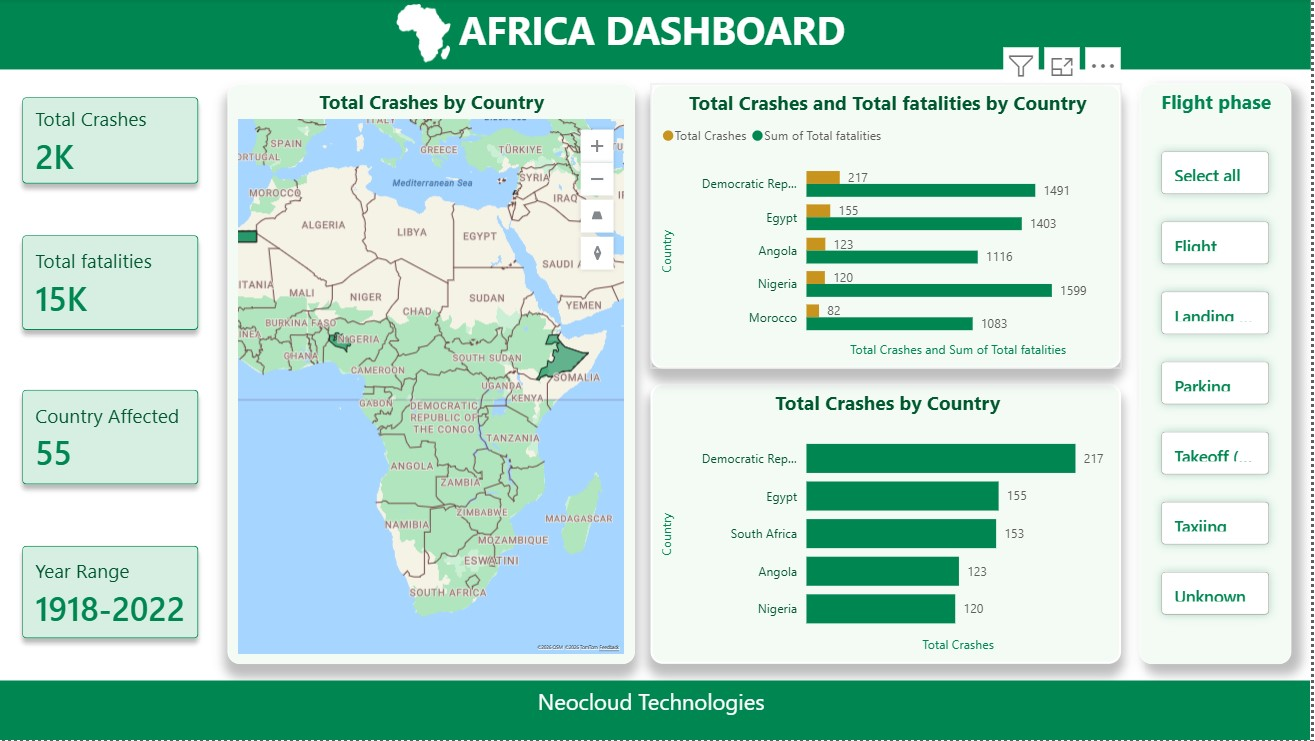

What the dashboard file says about the page in this screenshot:
{"tool":"powerbi","page":{"name":"Africa Dashboard","canvas":[1280,720],"ordinal":3},"visuals":[{"type":"cardVisual","fields":{"Data":["Worksheet.Total Crashes","select"]},"box":[0,66.4,229.9,142.5],"z":0},{"type":"textbox","box":[0,299,229,150],"z":1000},{"type":"textbox","box":[0,0,1280.8,69],"z":2000},{"type":"cardVisual","fields":{"Data":["Sum(Worksheet.Total fatalities)"]},"box":[0,200.8,229.9,150.6],"z":3000},{"type":"cardVisual","fields":{"Data":["Count(Worksheet.Country)"]},"box":[0,351.4,229.9,150.6],"z":4000},{"type":"cardVisual","fields":{"Data":["Worksheet.Year Range"]},"box":[0,502,229.9,149],"z":5000},{"type":"clusteredBarChart","fields":{"Category":["Worksheet.Country"],"Y":["Worksheet.Total Crashes"]},"box":[639.6,374,456.6,272],"z":6000},{"type":"clusteredBarChart","title":"Total Crashes and Total fatalities by Country","fields":{"Category":["Worksheet.Country"],"Y":["Worksheet.Total Crashes","Sum(Worksheet.Total fatalities)"]},"box":[639.6,82.6,456.6,276.9],"z":7000},{"type":"azureMap","fields":{"Category":["Worksheet.Country"]},"box":[228.3,82.6,395.1,563.5],"z":8000},{"type":"textbox","box":[0,662.3,1279.2,58.3],"z":9000},{"type":"advancedSlicerVisual","fields":{"Values":["Worksheet.Flight phase"]},"box":[1114,82.6,147.3,563.5],"z":10000},{"type":"image","box":[385.4,6.5,66.4,56.7],"z":11000}]}

Visuals, with their boxes in screenshot pixels (x1, y1, x2, y2), scaled from the page's 1280x720 canvas onto the 1315x741 screenshot:
cardVisual - Worksheet.Total Crashes x select: x1=0, y1=68, x2=236, y2=215
textbox: x1=0, y1=308, x2=235, y2=462
textbox: x1=0, y1=0, x2=1314, y2=71
cardVisual - Sum(Worksheet.Total fatalities): x1=0, y1=207, x2=236, y2=362
cardVisual - Count(Worksheet.Country): x1=0, y1=362, x2=236, y2=517
cardVisual - Worksheet.Year Range: x1=0, y1=517, x2=236, y2=670
clusteredBarChart - Worksheet.Country x Worksheet.Total Crashes: x1=657, y1=385, x2=1126, y2=665
"Total Crashes and Total fatalities by Country" clusteredBarChart: x1=657, y1=85, x2=1126, y2=370
azureMap - Worksheet.Country: x1=235, y1=85, x2=640, y2=665
textbox: x1=0, y1=682, x2=1314, y2=740
advancedSlicerVisual - Worksheet.Flight phase: x1=1144, y1=85, x2=1296, y2=665
image: x1=396, y1=7, x2=464, y2=65
